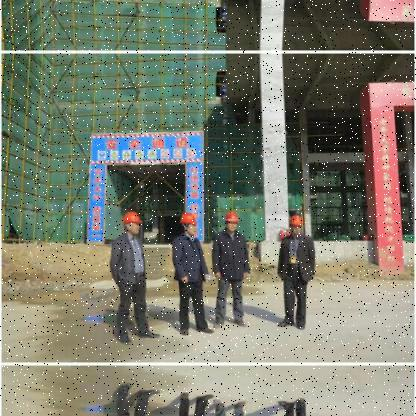Helmet: (124, 207, 148, 240), (178, 207, 200, 235), (286, 213, 308, 239), (224, 208, 242, 234)
